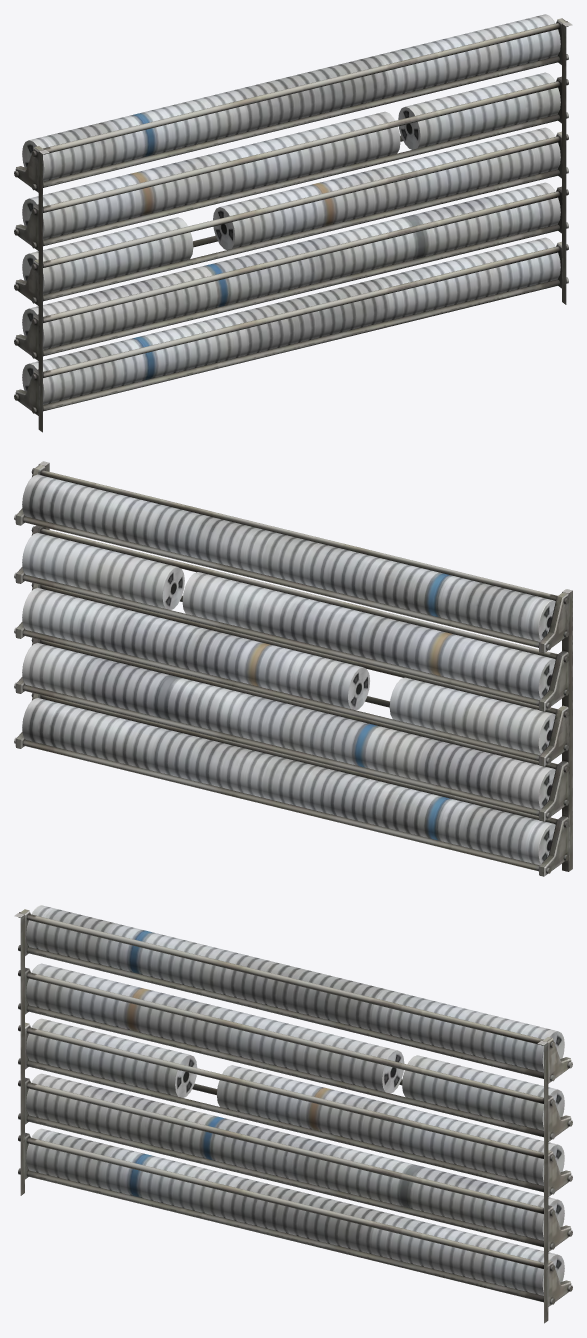
3 views of the same model, one above another, from view 1: azimuth 30°, elevation 25°; view 2: azimuth 150°, elevation 25°; view 3: azimuth 330°, elevation 25° (orthographic).
Visible parts, largest first — view 1: body0_model0_lod0_mesh0; view 2: body0_model0_lod0_mesh0; view 3: body0_model0_lod0_mesh0.
Boxes of the visible parts, x1,y1,x2,y2 form: body0_model0_lod0_mesh0: (14,14,572,432); body0_model0_lod0_mesh0: (14,461,572,876); body0_model0_lod0_mesh0: (14,905,572,1323).
Size of the model in its own units: 257 by 128 by 23.28.
Materials: 1 (1 with a texture image).
